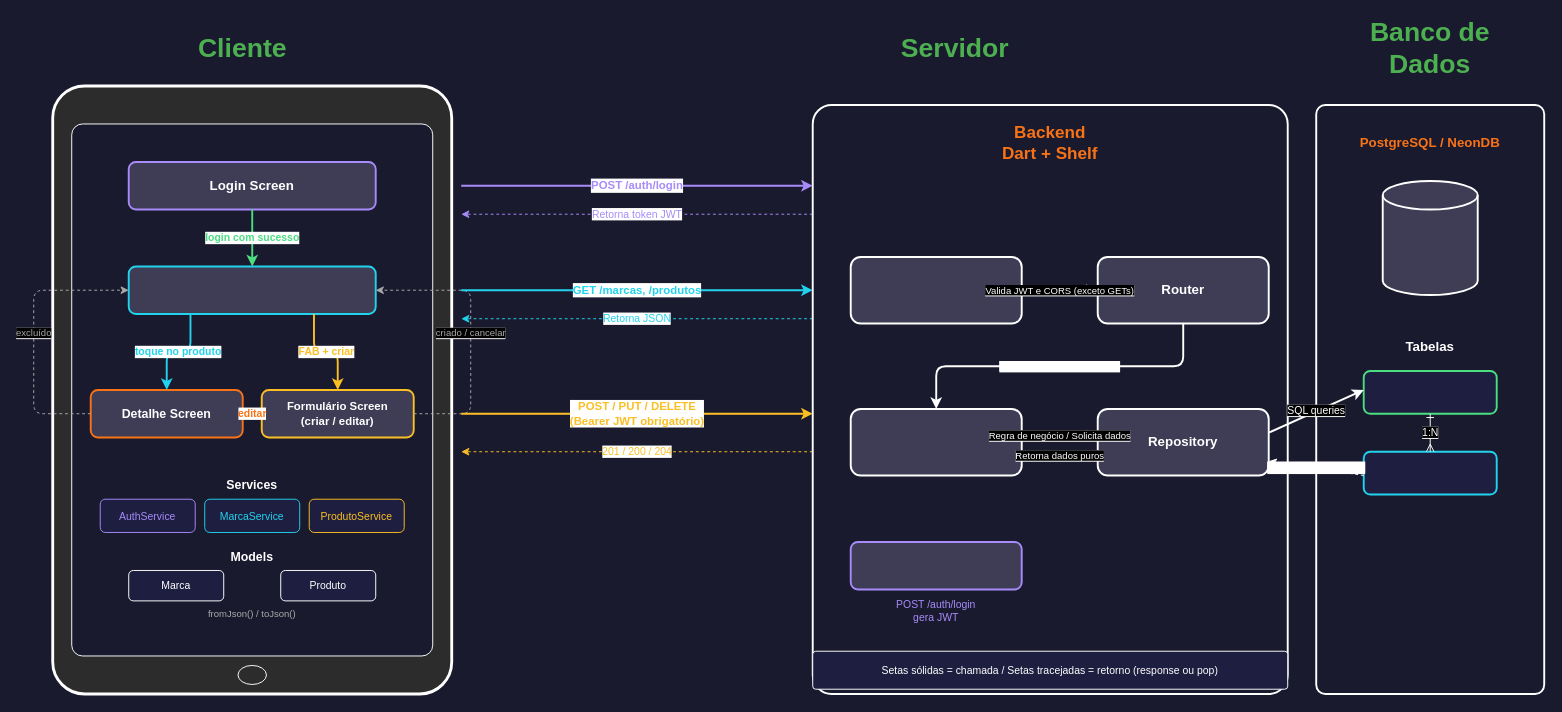
This 1562x712 diagram has some shape labels left out. The shapes that lost their labels are listed below. From the top down, each one's centre as x and y in pixels, then its label:
At point (251, 289): "Listagem Screen".
At point (935, 290): "Middleware".
At point (1429, 392): "marcas".
At point (935, 442): "Controller".
At point (1429, 472): "produtos".
At point (935, 565): "AuthController".
